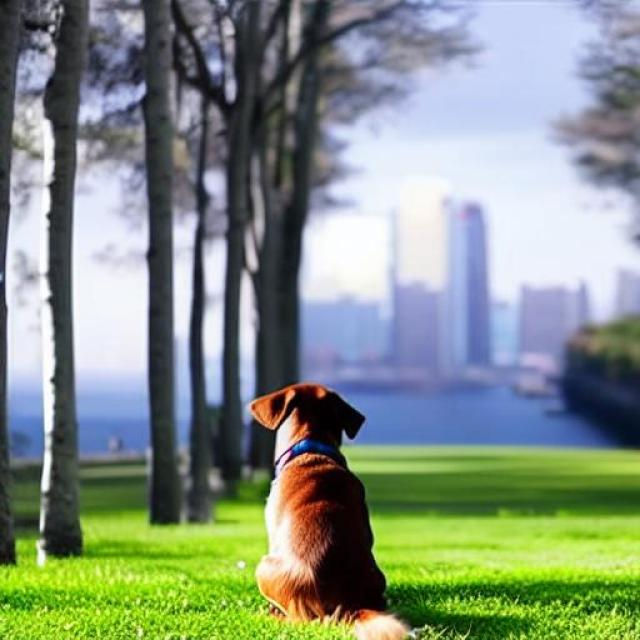Dog: (249, 382, 410, 640)
